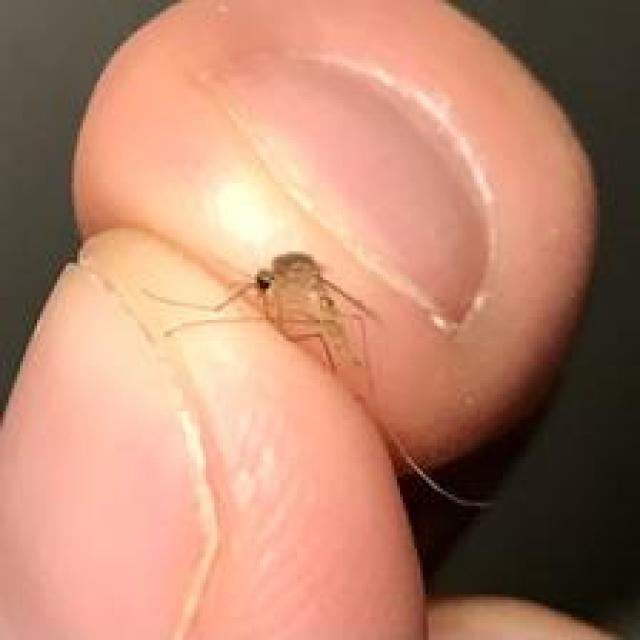Culex: (143, 250, 383, 376)
